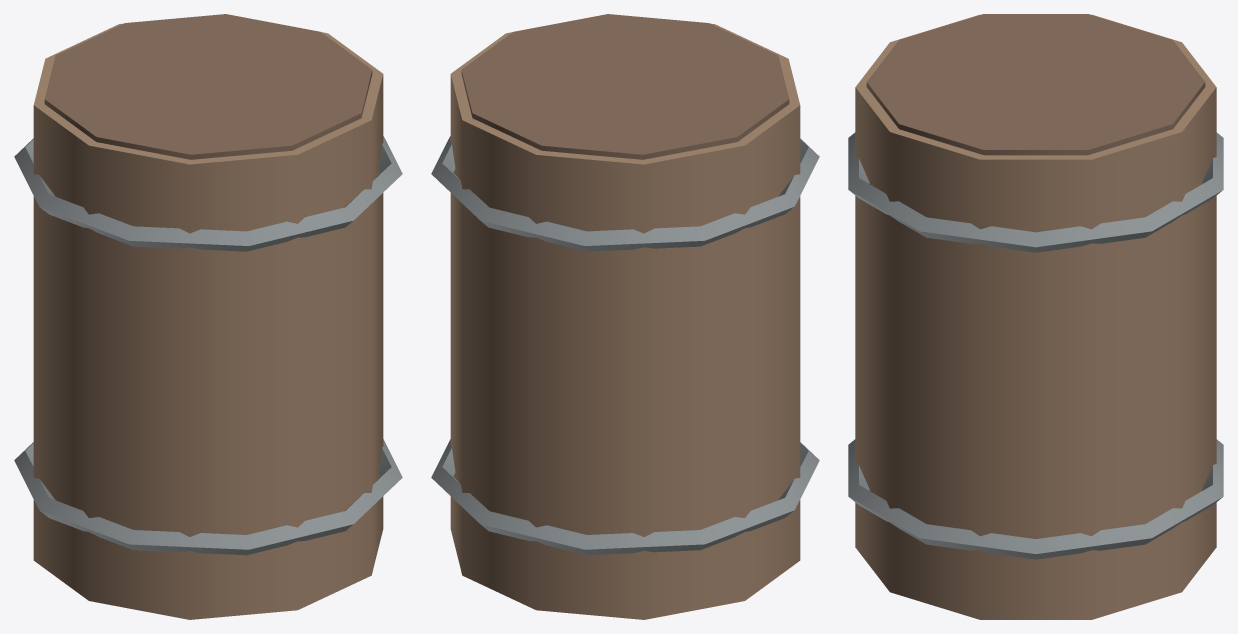
Rendered from barrel.glb.
3 renders of one model, left to right at view 1: azimuth 30°, elevation 25°; view 2: azimuth 150°, elevation 25°; view 3: azimuth 270°, elevation 25°, orthographic.
Visible parts, largest first — view 1: Barrel; view 2: Barrel; view 3: Barrel.
Boxes of the visible parts, <box> form: Barrel: <box>14,14,402,619</box>; Barrel: <box>431,14,819,619</box>; Barrel: <box>848,14,1223,619</box>.
Size of what is drawn, in the model's own units: 0.7 by 0.91 by 0.6657.
